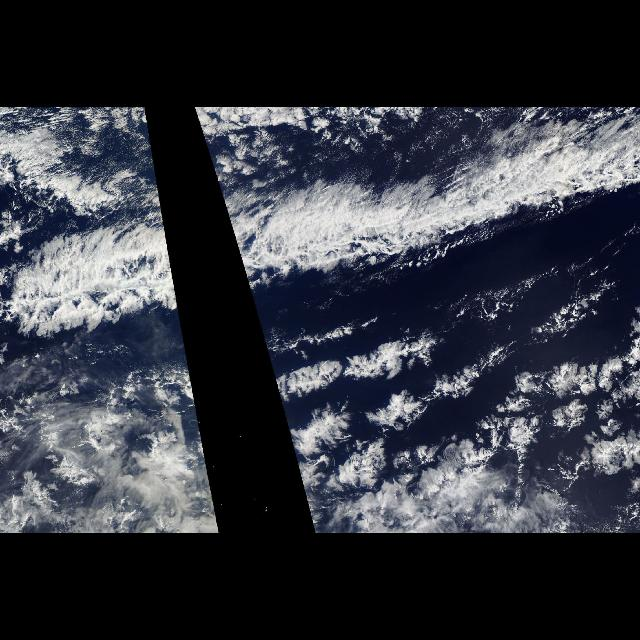Fish: (198, 123, 626, 507), (6, 123, 188, 357)
